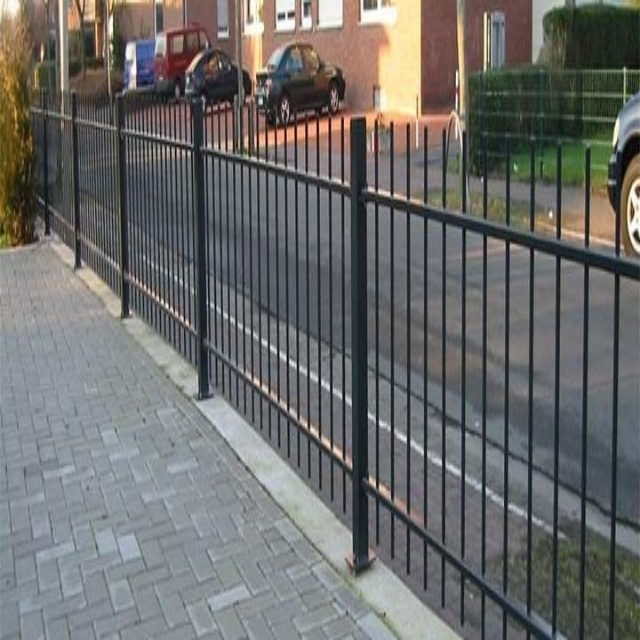obstacle: (55, 0, 640, 638)
